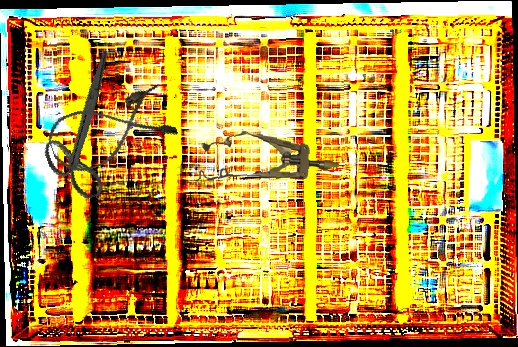Cannula: (42, 81, 180, 180)
Iris Scissors: (19, 50, 151, 208)
Speculum: (197, 128, 341, 192)
